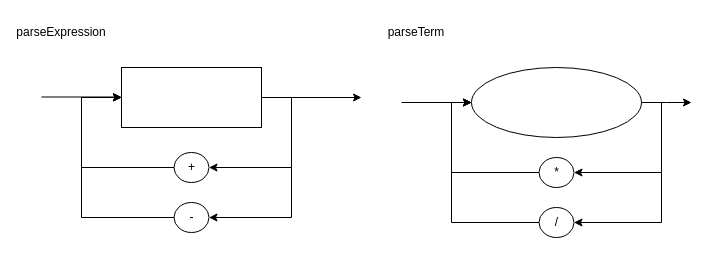
Some shapes in this 717 by 255 pixel diagram are drawn without their labels. The centre of each missing label's shape, as x and y in pixels:
Number: [556,102]
TERM: [191,97]
